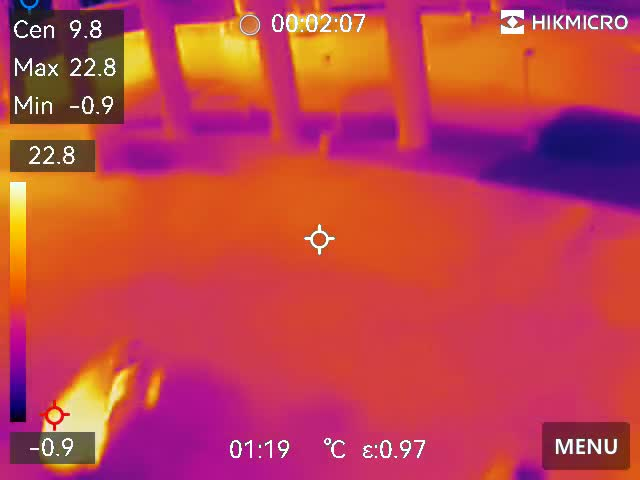vehicle: (36, 344, 173, 472)
